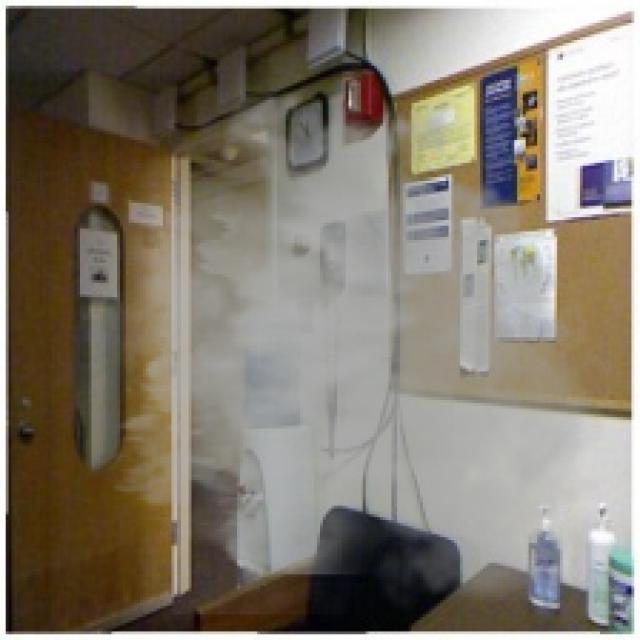Smoke: (77, 75, 623, 614)
